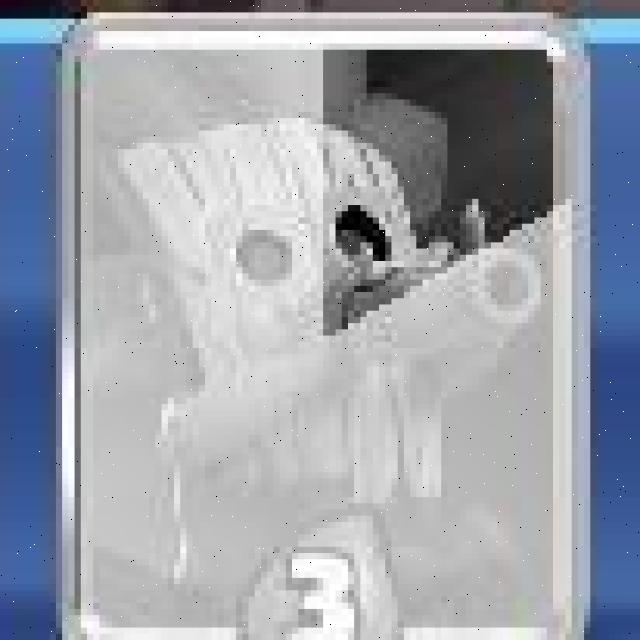Dart_Goblin: (54, 10, 592, 640)
